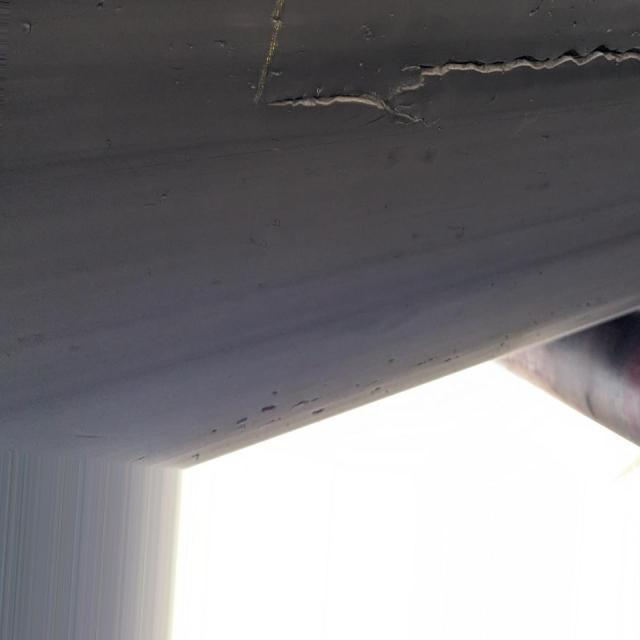Tear: (268, 39, 640, 134), (246, 0, 286, 108)
